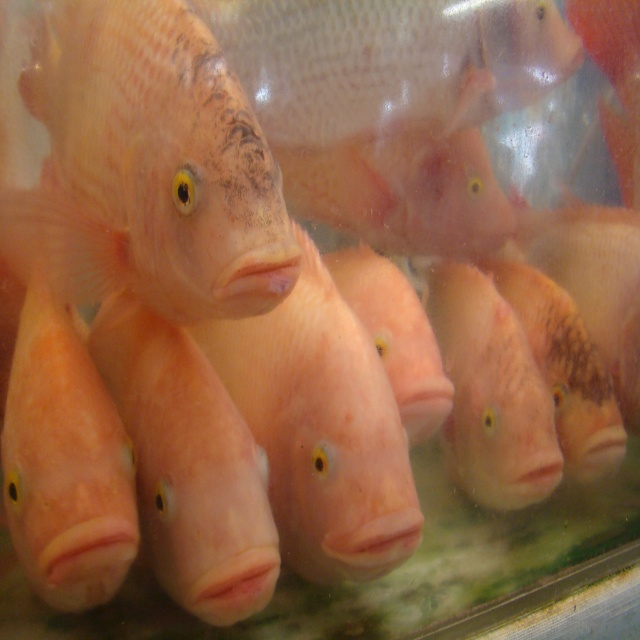Goldfish: (1, 0, 640, 629)
